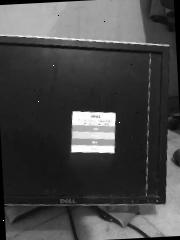electronic: (0, 24, 178, 214)
